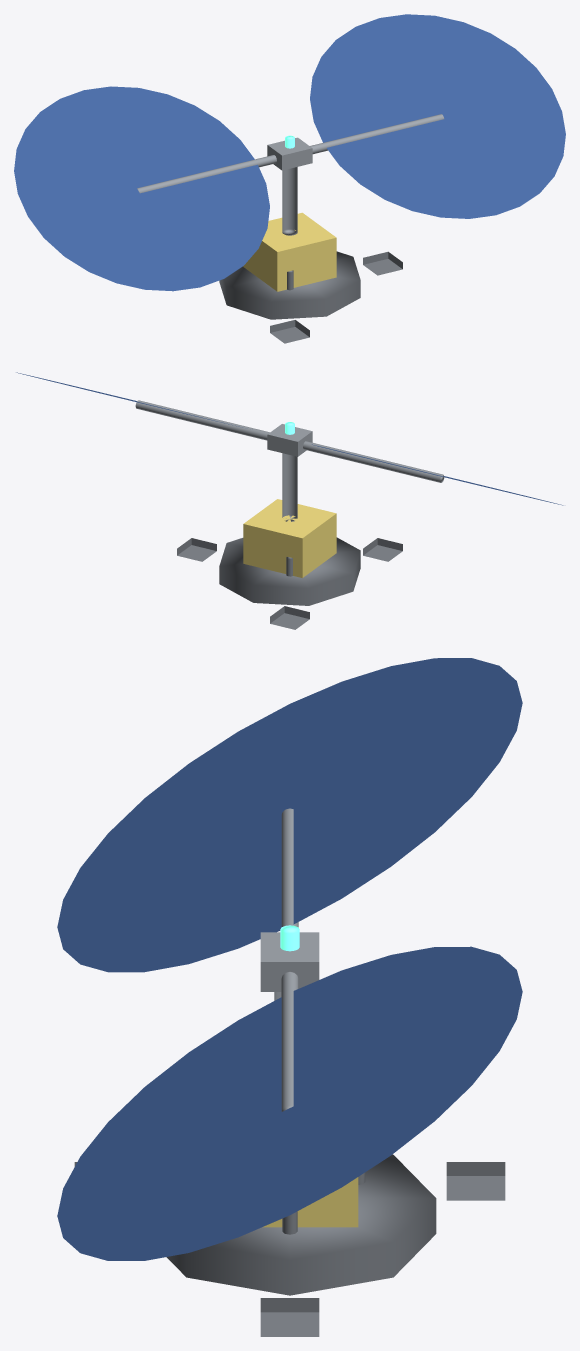
Rendered from solar_array.glb.
The picture shows the model from 3 angles, top to bottom: view 1: azimuth 30°, elevation 25°; view 2: azimuth 150°, elevation 25°; view 3: azimuth 270°, elevation 25°; orthographic projection. The views are drawn at different scales.
Visible parts, largest first — view 1: EquipmentRoot; view 2: EquipmentRoot; view 3: EquipmentRoot.
Boxes of the visible parts, x1,y1,x2,y2 form: EquipmentRoot: [14, 14, 565, 343]; EquipmentRoot: [16, 372, 563, 629]; EquipmentRoot: [57, 658, 522, 1336].
Bounding box in the file's own units: 6.2 × 2.18 × 2.38.
